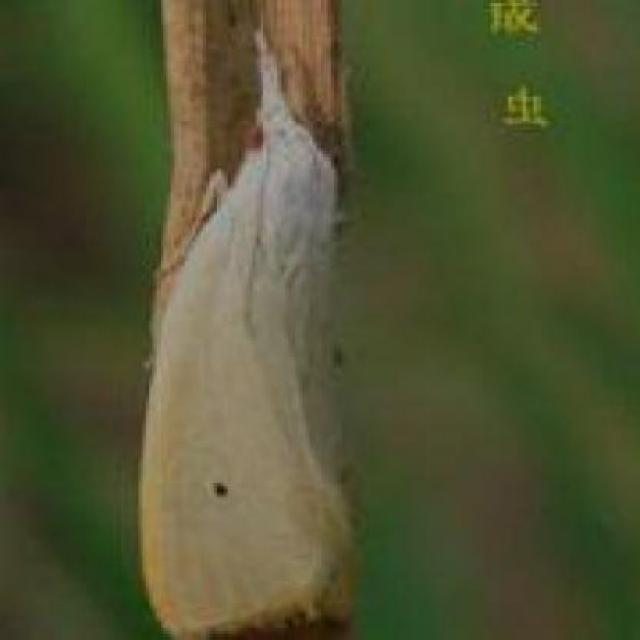stem-borer: (138, 24, 358, 640)
